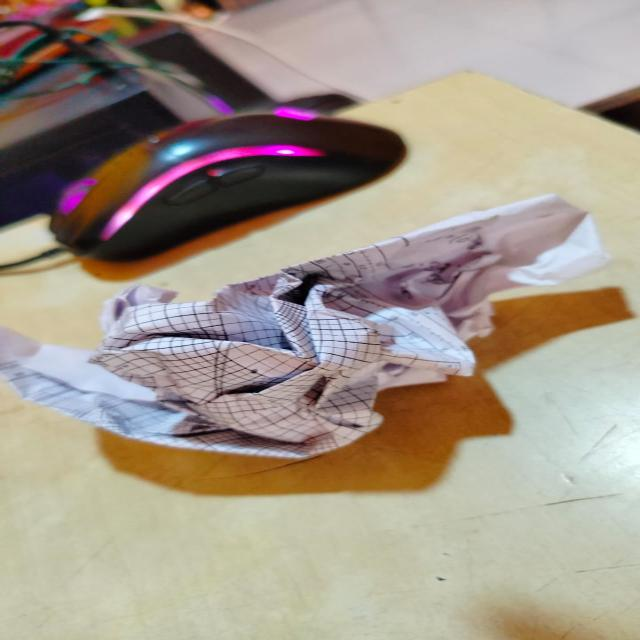Paper: (0, 198, 585, 488)
